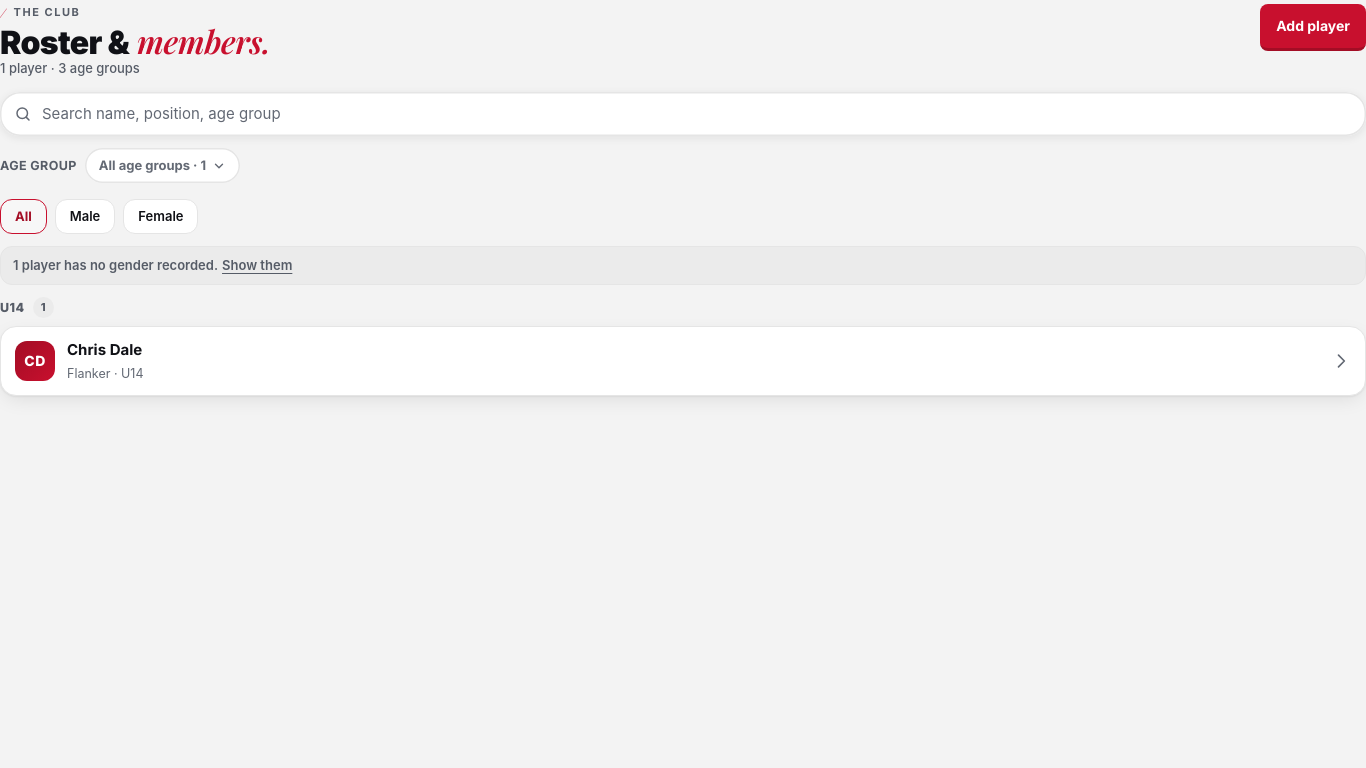
Test case: PlayerForm — the coach's buttons › starts with neither button chosen for a player who has no gender
The width and height of the screenshot is (1366, 768).
expect the heading "Roster & members." is shown: met, box [0,26,270,58]
What coordinates should you click on to do the following:
click the button "CD Chris Dale Flanker · U14"
I would click on:
 (35, 361)
Its box is [1,328,1365,396].
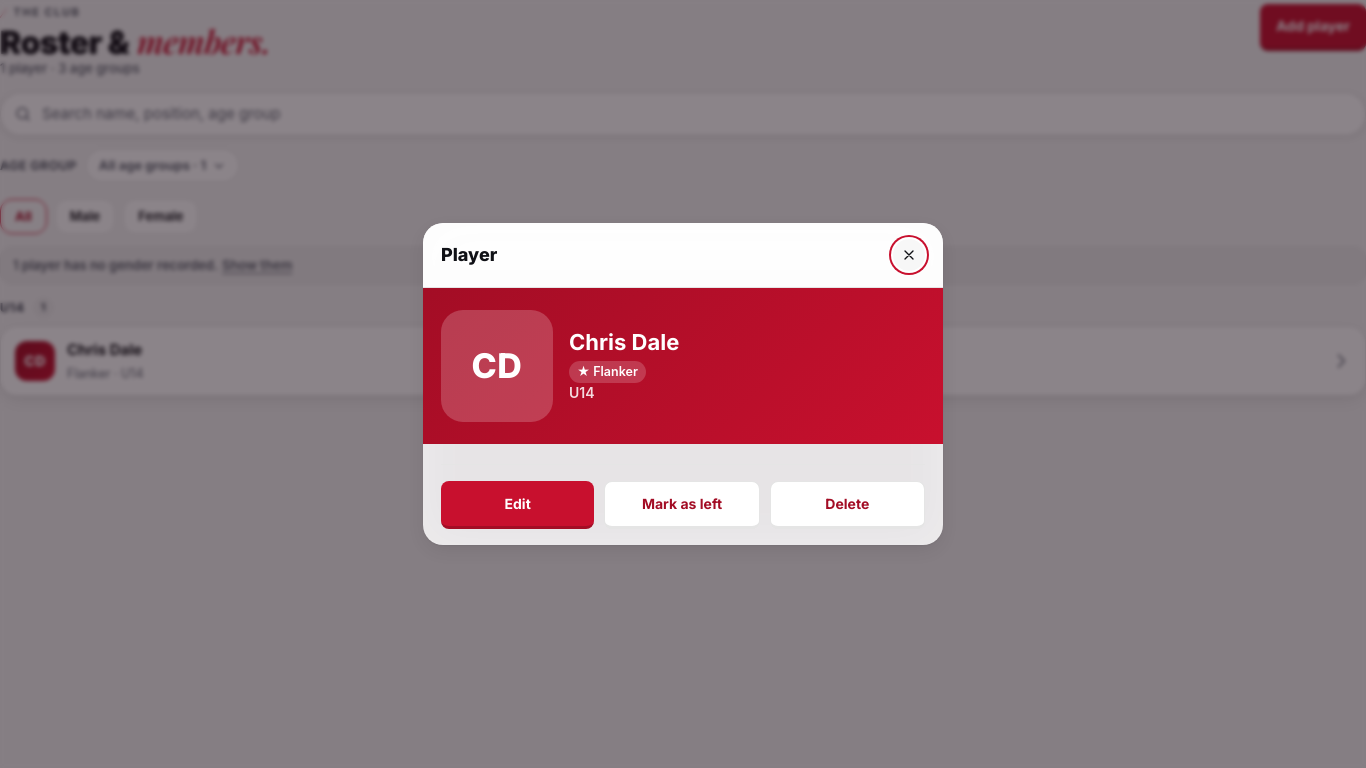
What coordinates should you click on to do the following:
click the button "Edit"
I would click on:
 (518, 505)
Its box is [441,481,594,529].
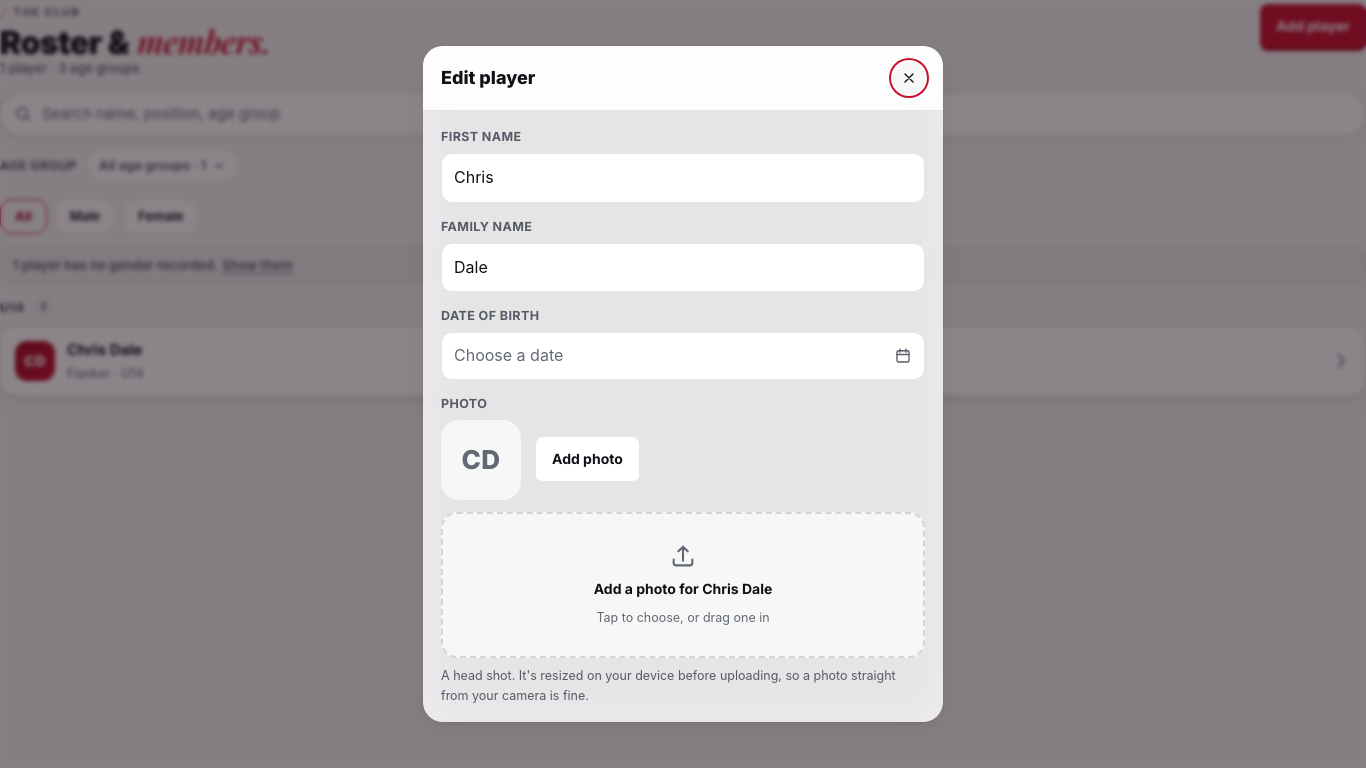
expect the field labelled "First name" is shown: met, box [441,153,925,203]
